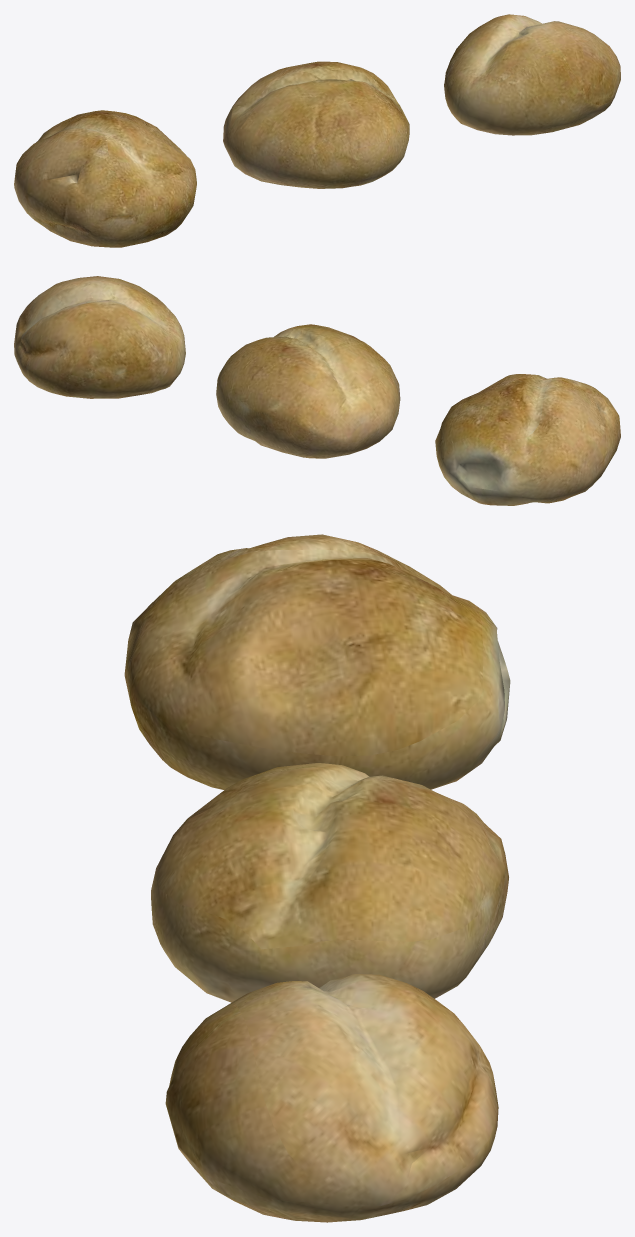
Rendered from bulki.glb.
3 views of the same model, one above another, from view 1: azimuth 30°, elevation 25°; view 2: azimuth 150°, elevation 25°; view 3: azimuth 270°, elevation 25° (orthographic). The views are drawn at different scales.
Parts seen in each view (by area): view 1: hamburger_buns_01, hamburger_buns_02, hamburger_buns_03; view 2: hamburger_buns_01, hamburger_buns_02, hamburger_buns_03; view 3: hamburger_buns_01, hamburger_buns_02, hamburger_buns_03.
Part boxes in pixels (box(x1,y1,x2,y2)): hamburger_buns_01: box(14, 110, 196, 247); hamburger_buns_02: box(223, 61, 409, 188); hamburger_buns_03: box(444, 14, 620, 135); hamburger_buns_01: box(435, 374, 620, 505); hamburger_buns_02: box(216, 324, 400, 458); hamburger_buns_03: box(14, 276, 185, 398); hamburger_buns_01: box(124, 534, 510, 789); hamburger_buns_02: box(151, 763, 508, 1002); hamburger_buns_03: box(165, 974, 498, 1222).
Bounding box in the file's own units: 0.3972 × 0.0634 × 0.1138.
1 material, 1 textured.
